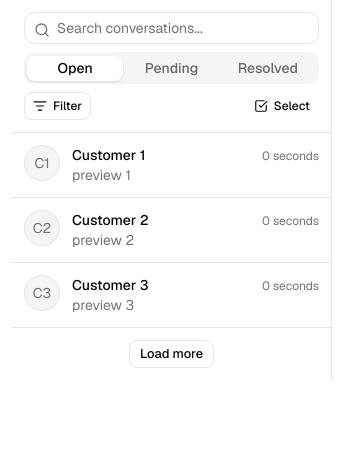
Test case: ConversationList › 'select all loaded' selects what is on screen and says when there is more
Check: the text "Customer 1" is shown, box [72,145,145,165]
Click the button "Select": [282, 106] box [245,92,319,120]
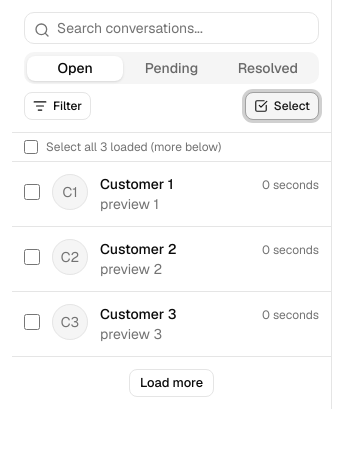
Check: the text "Select all 3 loaded (more below)" is shown, box [12,133,331,162]
Click the checkbox labelled "Select all 3 loaded (more below)": [31, 147] box [24,140,38,154]
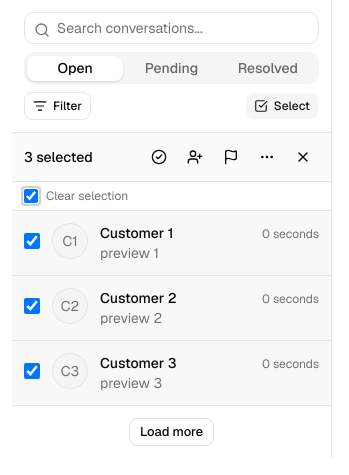
Check: the text "3 selected" is shown, box [24,147,93,167]
Check: the text "Clear selection" is shown, box [12,182,331,211]
